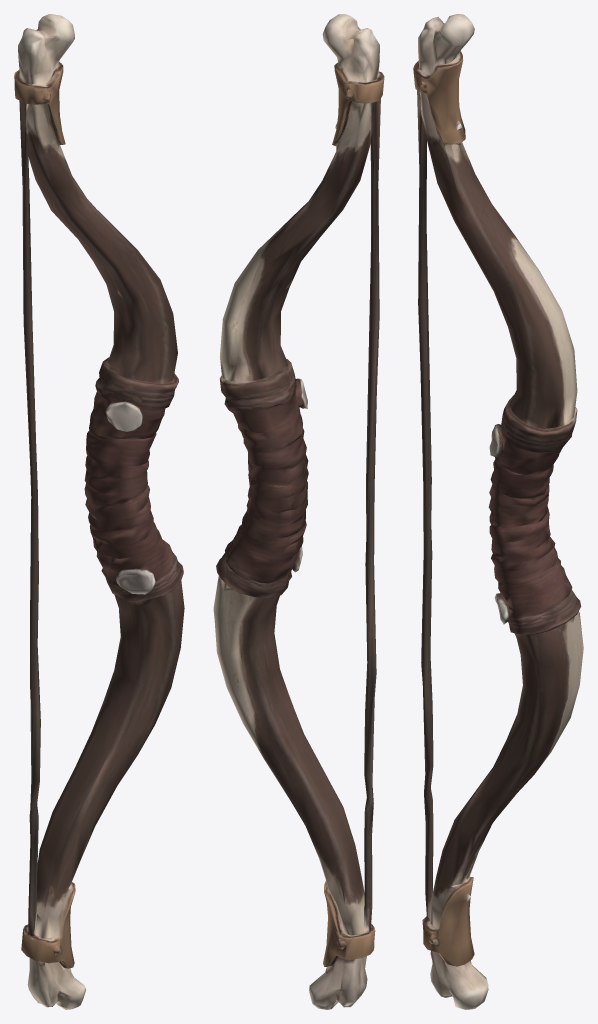
The model's file is bow.glb.
3 renders of one model, left to right at view 1: azimuth 30°, elevation 25°; view 2: azimuth 150°, elevation 25°; view 3: azimuth 330°, elevation 25°, orthographic.
Visible parts, largest first — view 1: weapon; view 2: weapon; view 3: weapon.
Boxes of the visible parts, bbox=[...] form: weapon: bbox=[14, 14, 184, 1009]; weapon: bbox=[213, 14, 384, 1009]; weapon: bbox=[413, 14, 583, 1009].
Bounding box in the file's own units: 0.1677 × 1 × 0.083.
1 material, 1 textured.
